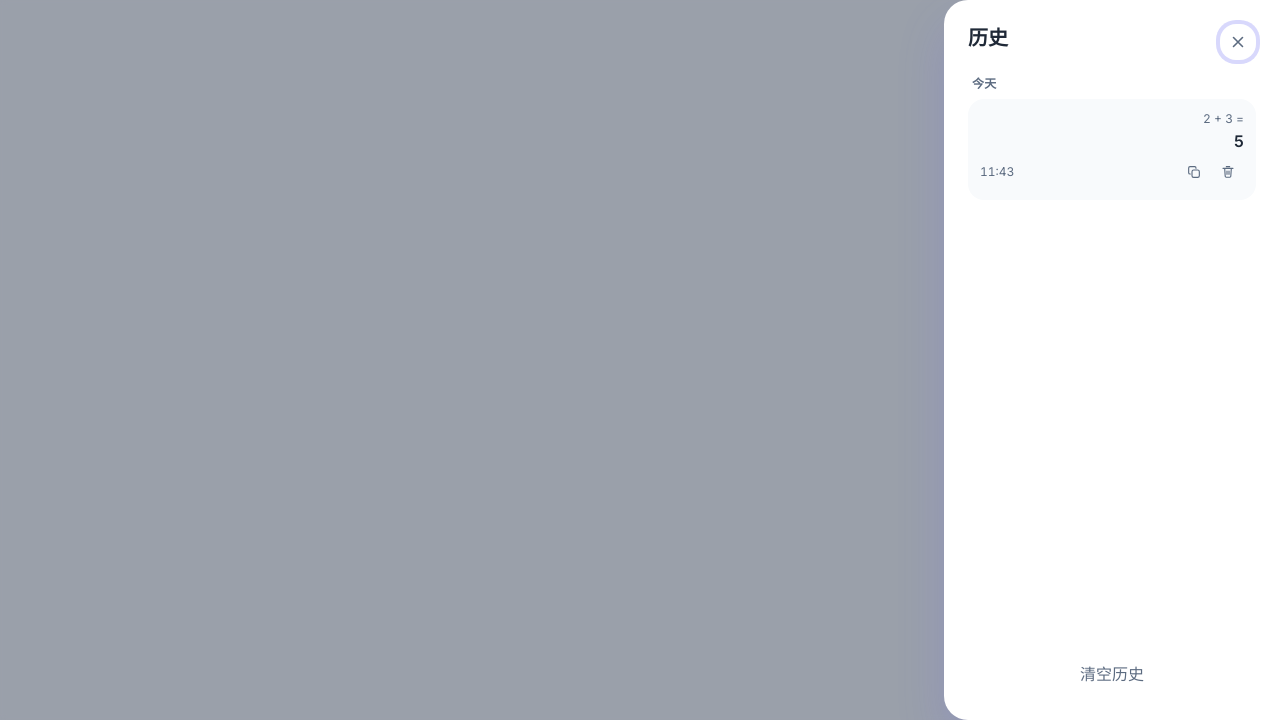
Test case: HistoryDrawer › deletes a single entry
Click the button named "删除".
click(1228, 172)  # box x1=1212 y1=156 x2=1244 y2=188
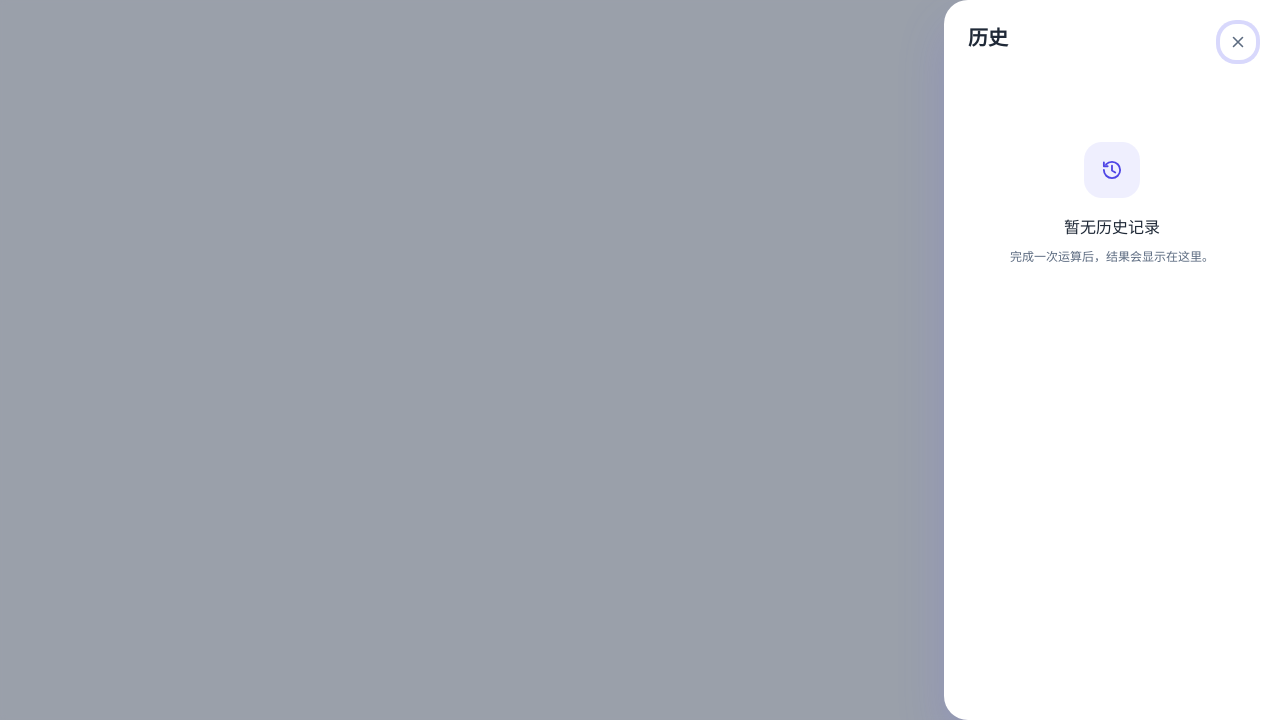
Expected: the text "暂无历史记录" is shown, x1=1064 y1=214 x2=1160 y2=241
